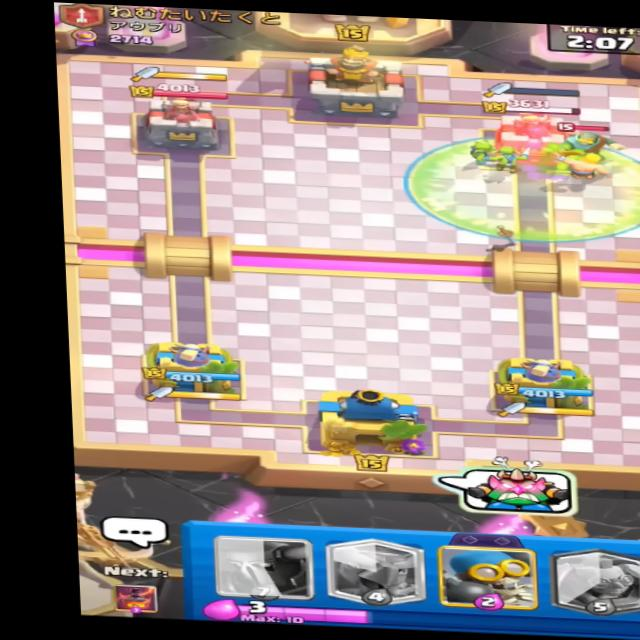knight: (542, 122, 619, 168)
